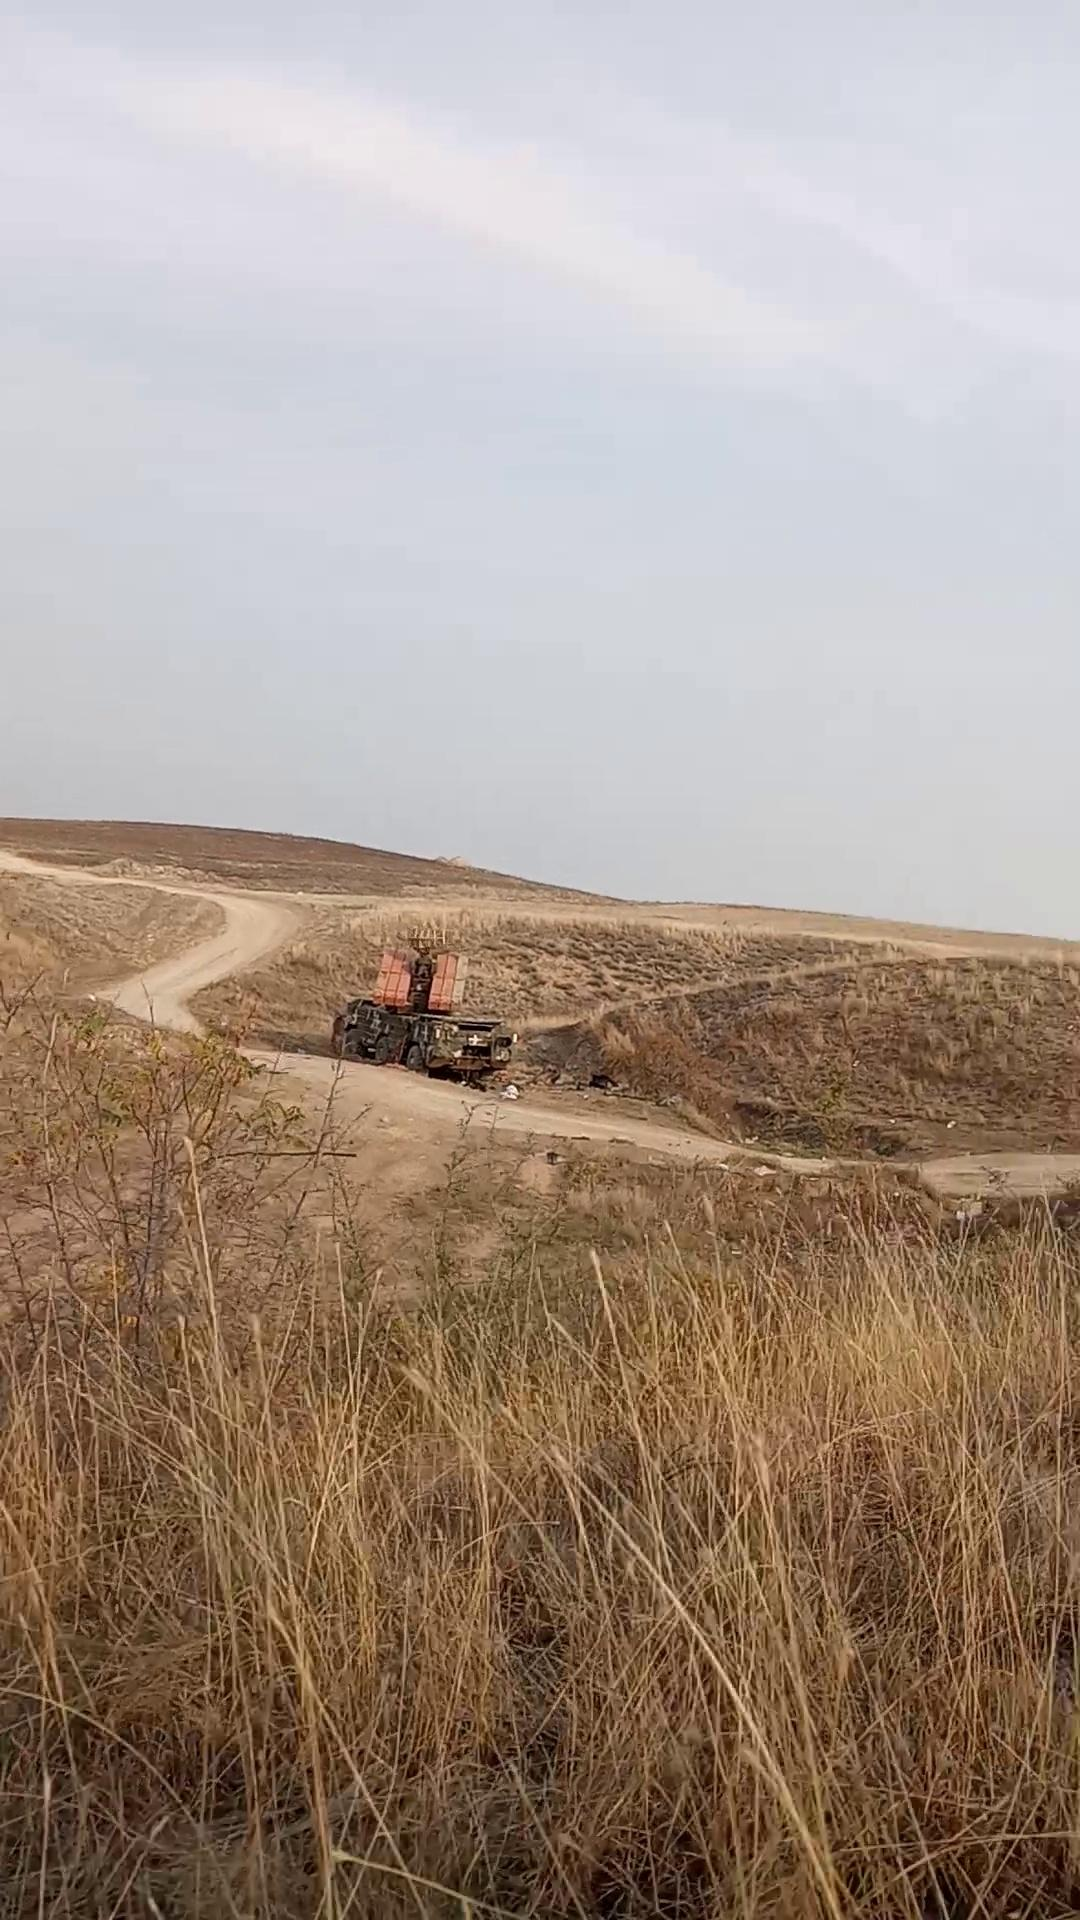MIL_SAM_TEL: (332, 938, 521, 1093)
